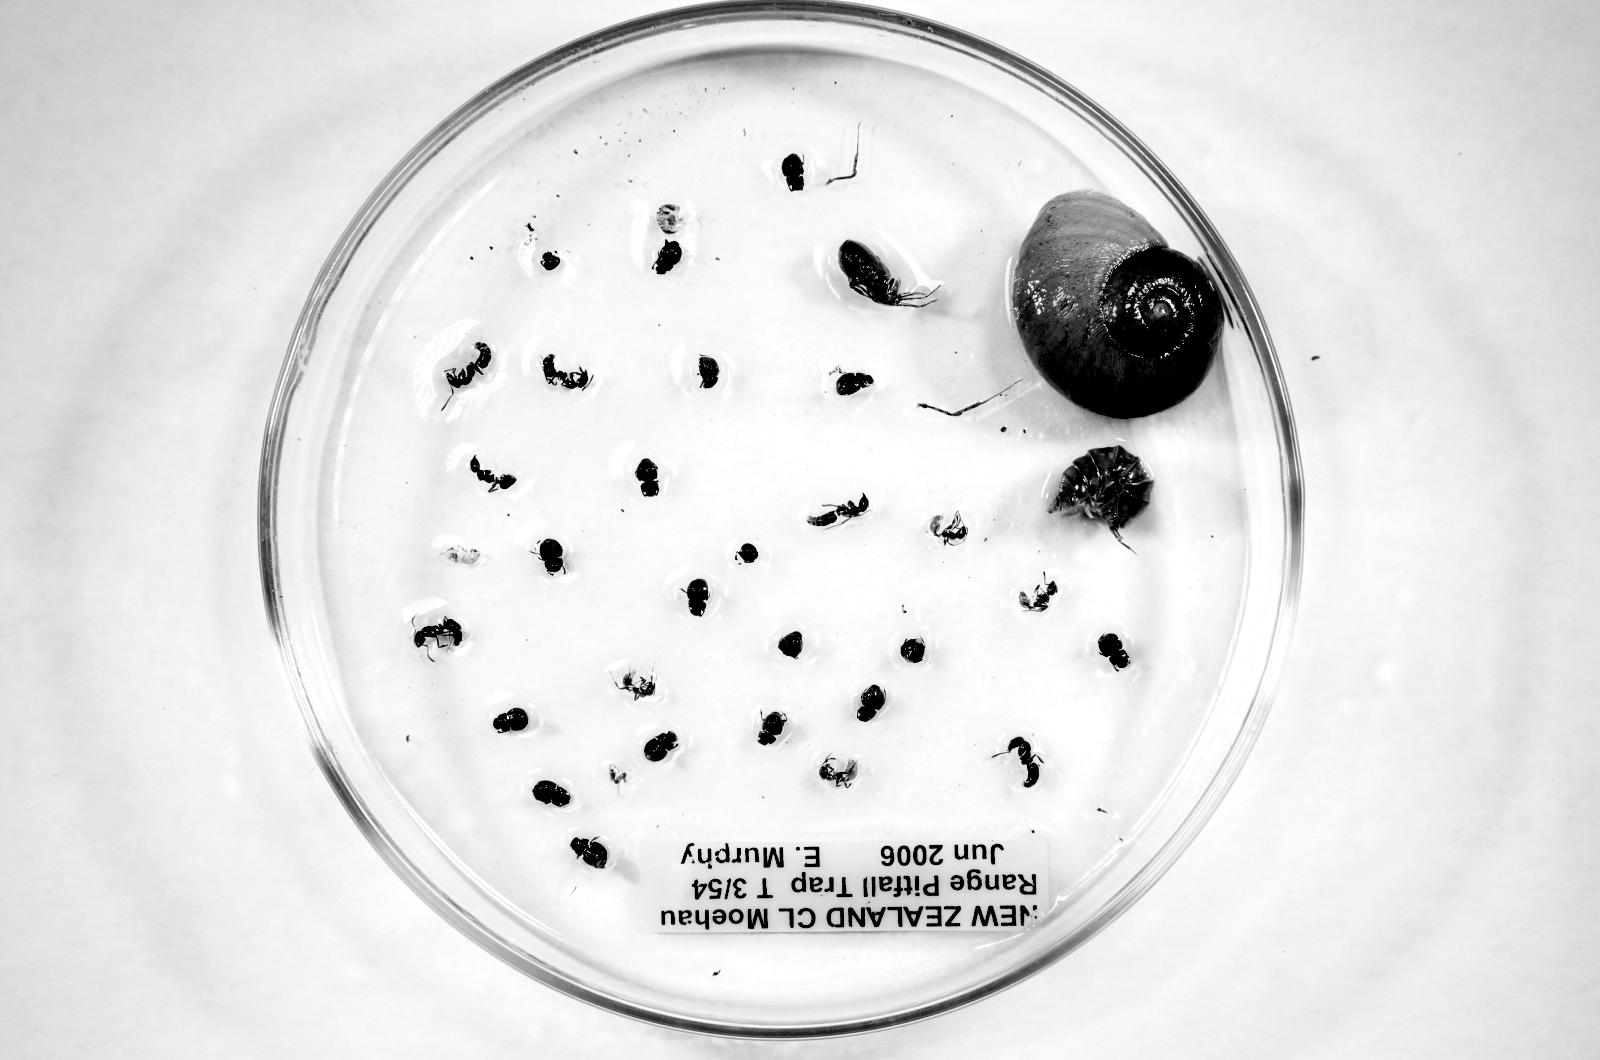coleoptera: (1097, 633, 1129, 671), (570, 836, 608, 868), (532, 780, 572, 808), (643, 731, 679, 762), (536, 538, 565, 575), (684, 577, 711, 616), (857, 685, 886, 722), (653, 240, 682, 274), (758, 711, 788, 745), (835, 371, 874, 395), (635, 458, 659, 497), (493, 707, 529, 733), (782, 154, 804, 192), (698, 355, 720, 389)
formicidae: (446, 342, 492, 388), (1003, 736, 1043, 788), (807, 495, 869, 528), (540, 354, 592, 389), (413, 616, 464, 649), (469, 457, 517, 492), (929, 511, 967, 545), (1018, 580, 1058, 612), (615, 668, 655, 700), (820, 756, 857, 788)
gastropoda: (1011, 190, 1226, 418)
isopoda: (1049, 446, 1153, 544)
opiliones: (840, 240, 902, 305)
